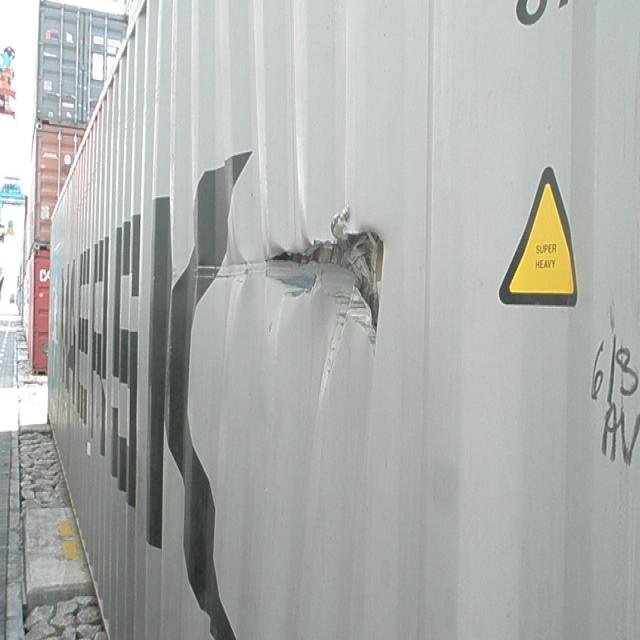dent: (97, 375, 125, 449)
